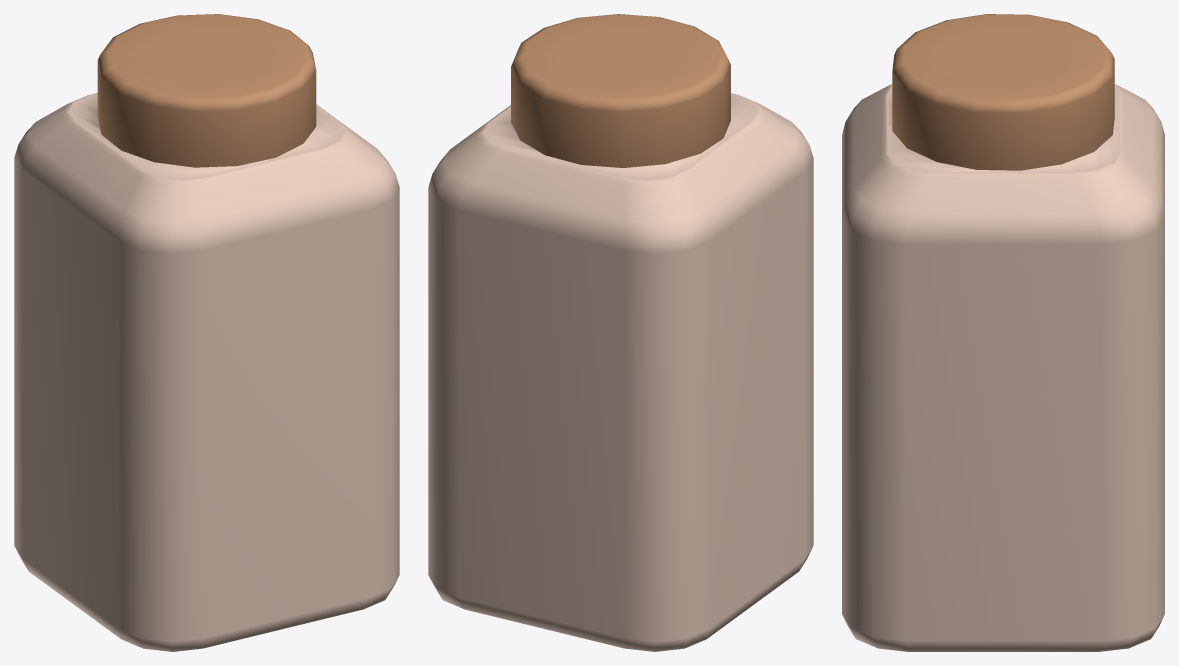
Rendered from UmeboshiJar.fbx.
The picture shows the model from 3 angles, left to right: view 1: azimuth 30°, elevation 25°; view 2: azimuth 150°, elevation 25°; view 3: azimuth 270°, elevation 25°; orthographic projection. The views are drawn at different scales.
Parts seen in each view (by area): view 1: jar, cover; view 2: jar, cover; view 3: jar, cover.
Boxes of the visible parts, box(x1,y1,x2,y2) form: jar: box(14, 93, 399, 651); cover: box(97, 14, 316, 167); jar: box(428, 93, 813, 651); cover: box(511, 14, 730, 167); jar: box(842, 84, 1164, 651); cover: box(892, 14, 1114, 170).
Bounding box in the file's own units: 17.97 × 32.84 × 17.97.
